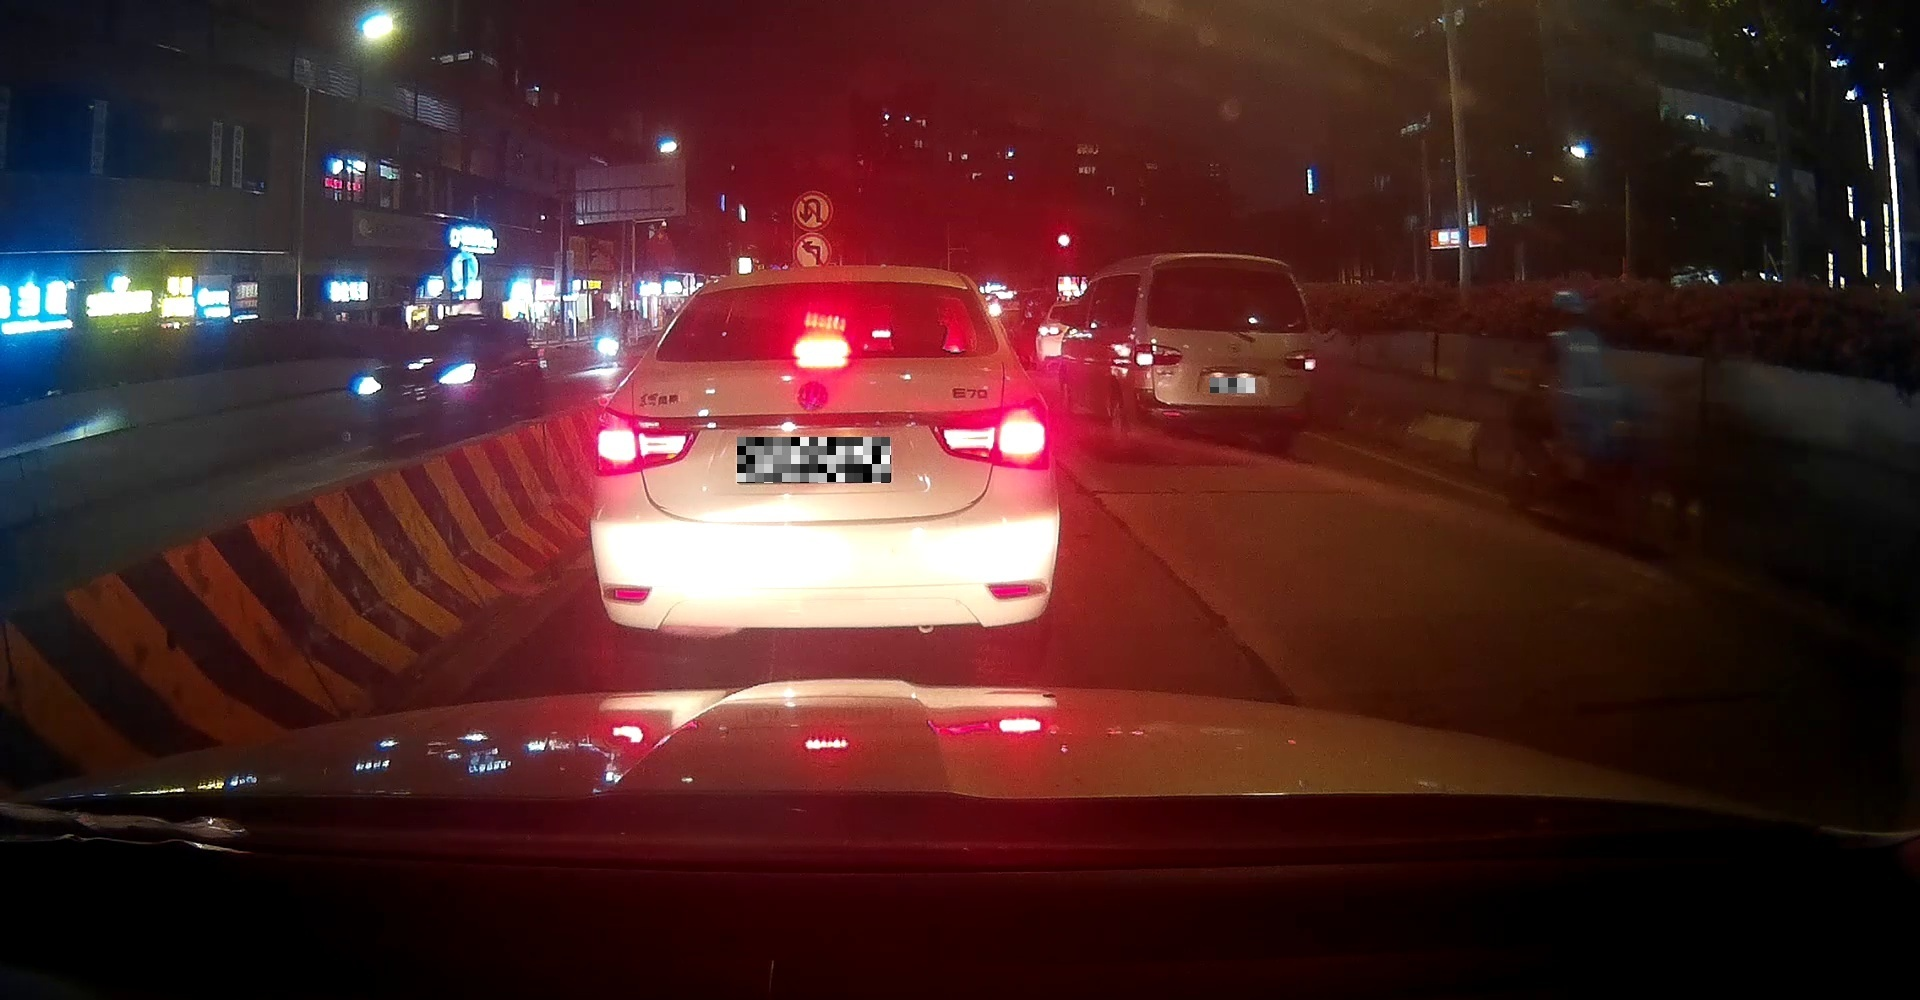L_light: (594, 407, 698, 476), (1133, 344, 1180, 365)
R_light: (928, 400, 1049, 470), (1283, 348, 1316, 372)
T_light: (794, 338, 847, 357), (1213, 266, 1246, 274)
night-brake: (589, 266, 1059, 654)
night-no: (1131, 254, 1316, 447)
plate_1: (737, 437, 891, 484)
plate_2: (1210, 378, 1255, 393)
